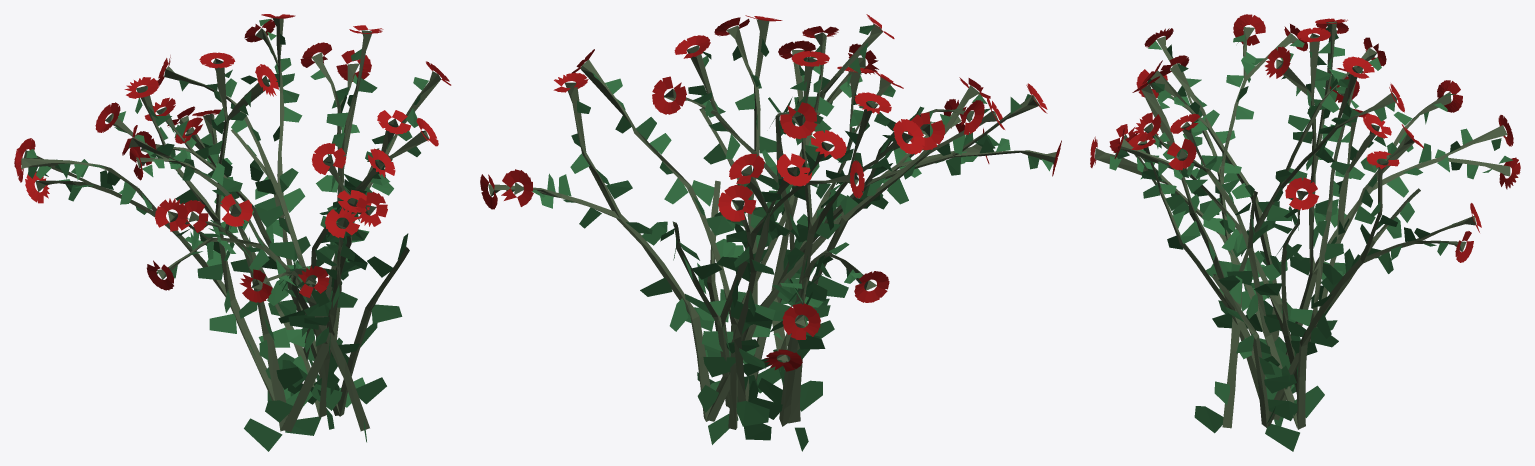
The model's file is DaisyLarge.fbx.
3 views of the same model, side by side, from view 1: azimuth 30°, elevation 25°; view 2: azimuth 150°, elevation 25°; view 3: azimuth 270°, elevation 25° (orthographic). The views are drawn at different scales.
Visible parts, largest first — view 1: daisyLarge2Leaf, daisyLarge2Main, daisyLarge2Flower; view 2: daisyLarge2Leaf, daisyLarge2Main, daisyLarge2Flower; view 3: daisyLarge2Leaf, daisyLarge2Main, daisyLarge2Flower.
Part boxes in pixels (x1,y1,x2,y2): daisyLarge2Leaf: (26, 18, 428, 451); daisyLarge2Main: (21, 18, 441, 431); daisyLarge2Flower: (14, 14, 451, 302); daisyLarge2Leaf: (506, 25, 1052, 451); daisyLarge2Main: (488, 19, 1056, 429); daisyLarge2Flower: (480, 14, 1061, 371); daisyLarge2Leaf: (1109, 27, 1512, 451); daisyLarge2Main: (1095, 21, 1510, 429); daisyLarge2Flower: (1090, 14, 1520, 262).
Bounding box in the file's own units: 1.83 × 1.85 × 1.89.
